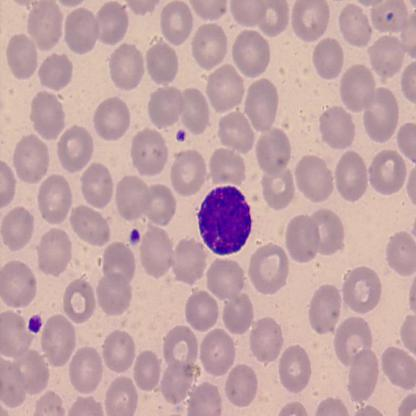Basophil: (193, 180, 255, 259)
